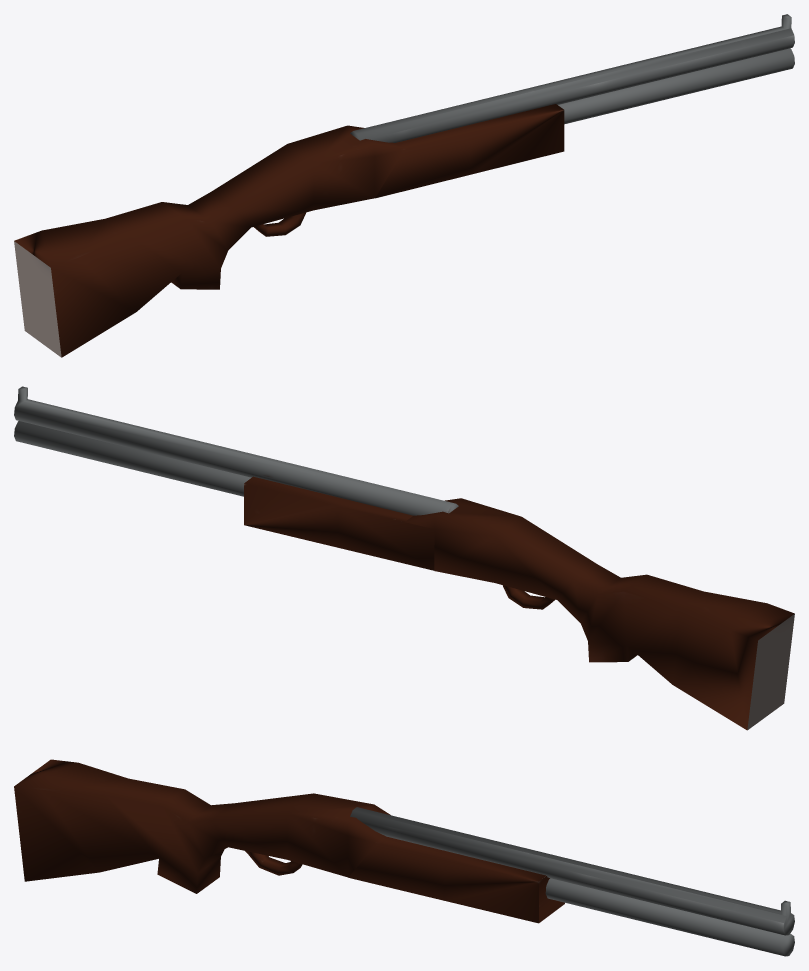
File: escopeta.obj
3 renders of one model, top to bottom at view 1: azimuth 30°, elevation 25°; view 2: azimuth 150°, elevation 25°; view 3: azimuth 330°, elevation 25°, orthographic.
Parts seen in each view (by area): view 1: escopeta; view 2: escopeta; view 3: escopeta.
Boxes of the visible parts, x1,y1,x2,y2 form: escopeta: [14, 14, 794, 357]; escopeta: [14, 386, 794, 730]; escopeta: [14, 759, 794, 956].
Bounding box in the file's own units: 1.28 × 0.238 × 0.1082.
